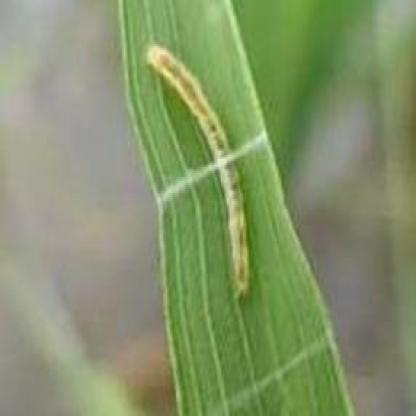leaf-folder: (137, 24, 304, 312)
